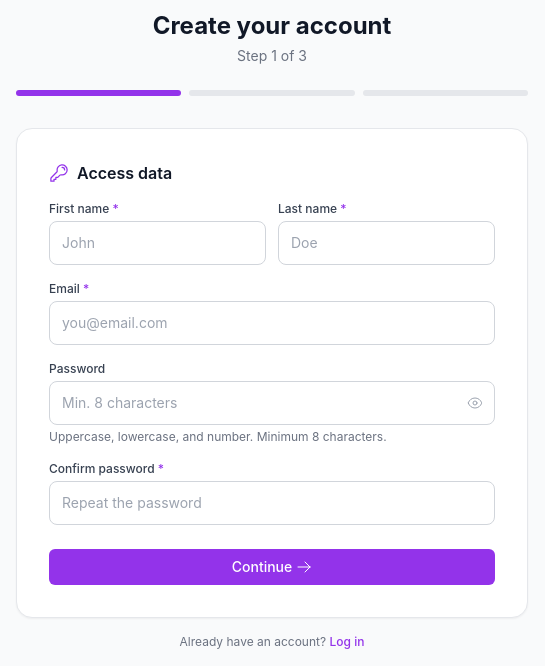
Test: RegisterPage › no step 2, botão Voltar aparece
Type "João" into the field with placeholder "John" at (158,243), box [49,221,266,265]
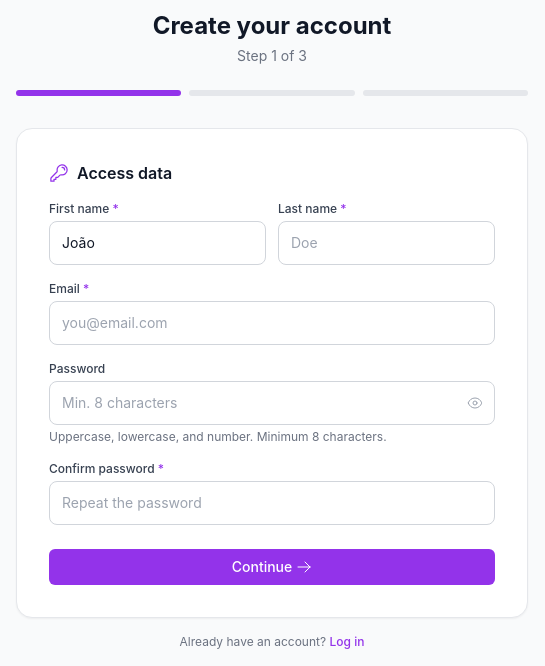
Type "Silva" into the field with placeholder "Doe" at (386,243), box [278,221,495,265]
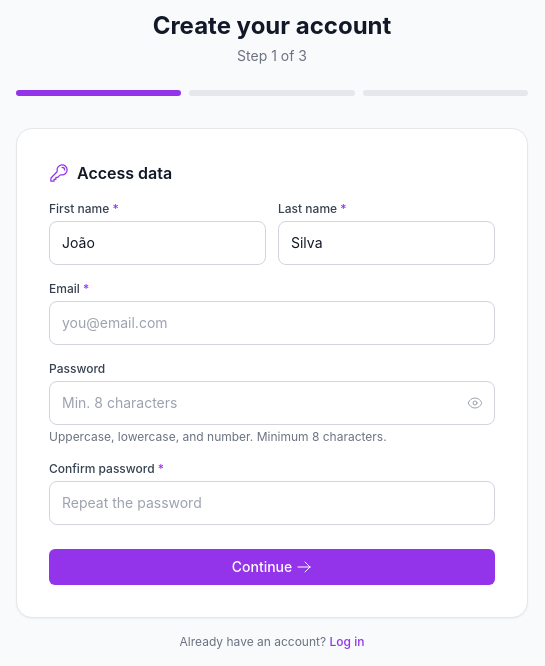
Type "joao@example.com" into the field with placeholder "you@email.com" at (272,323), box [49,301,495,345]
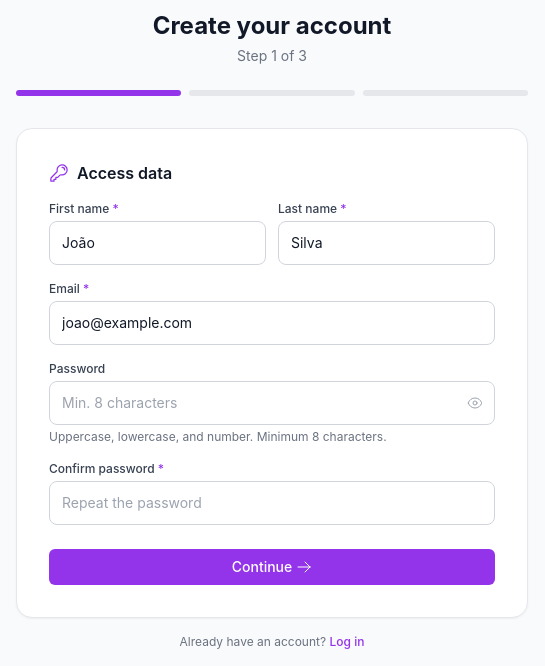
Type "SenhaForte123" into the password field with placeholder "Min. 8 characters" at (272,403), box [49,381,495,425]
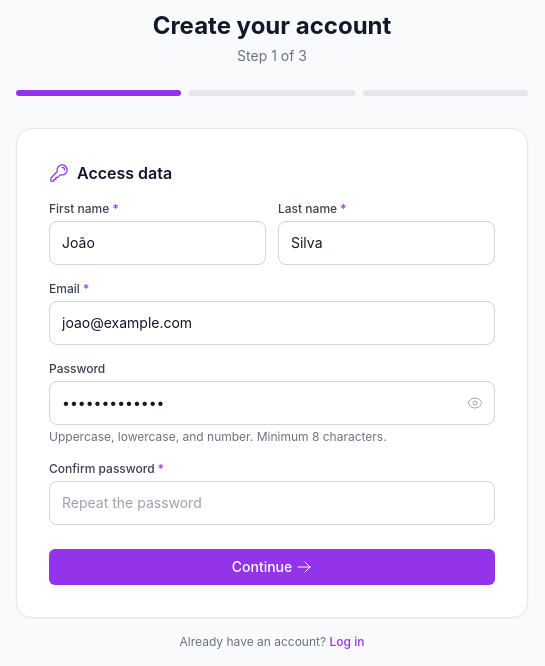
Type "SenhaForte123" into the password field with placeholder "Repeat the password" at (272,503), box [49,481,495,525]
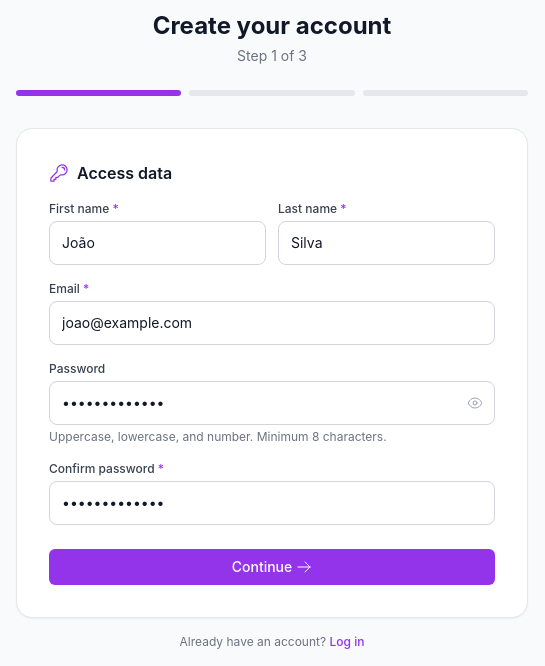
Click the button "Continue" at (272,567), box [49,549,495,585]
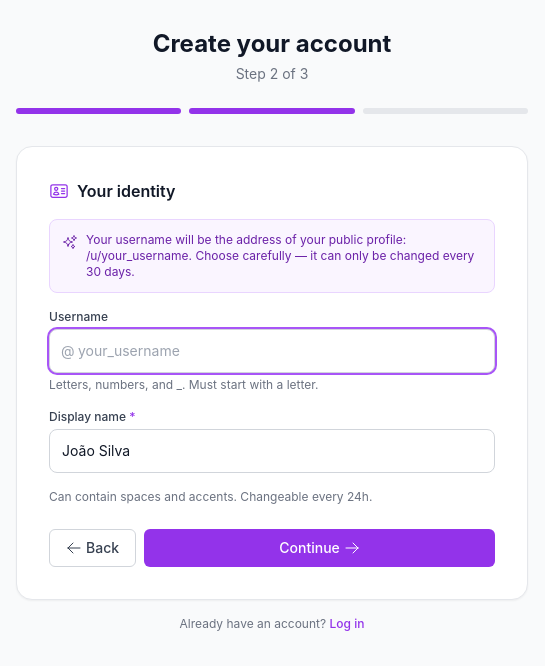
Expected: the button "Back" is shown, [49,529,136,567]
